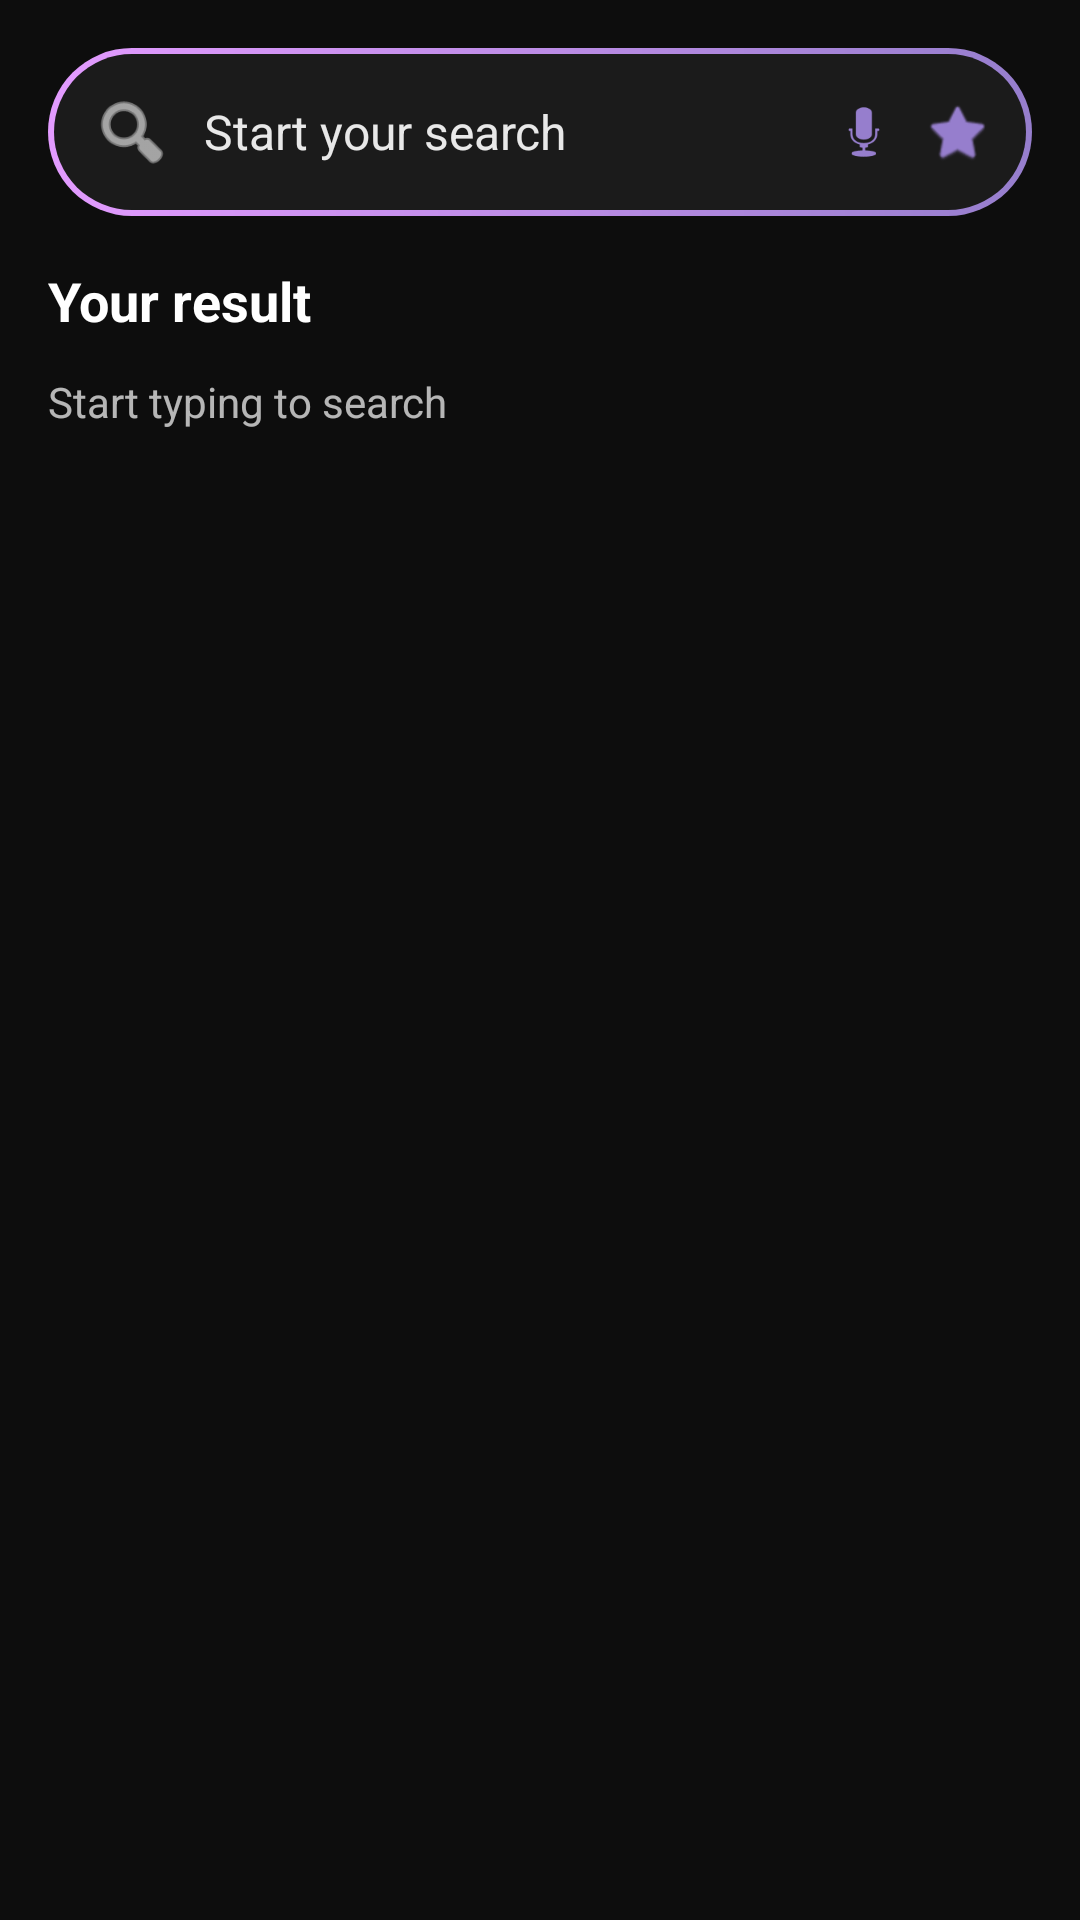

Where icons sit on this 1080 x 1920 app screen, as [x1=x1, y1=y1, x2=x2, y2=y2]:
speak now: [x1=848, y1=107, x2=880, y2=157]
star on: [x1=930, y1=106, x2=985, y2=159]
